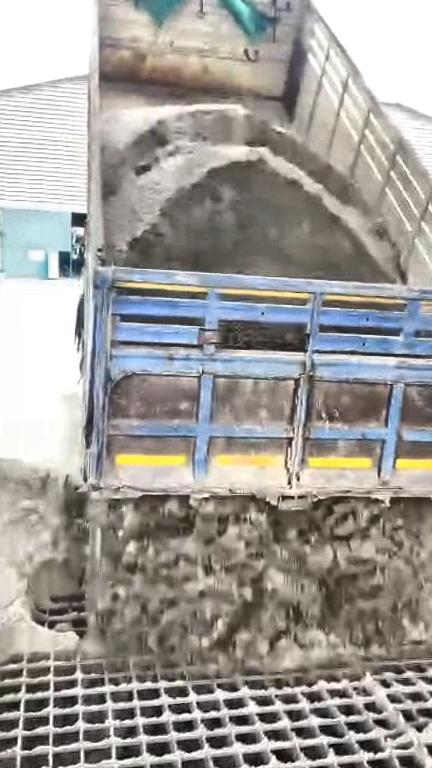sand: (0, 458, 432, 671), (97, 98, 401, 281), (225, 323, 297, 346)
